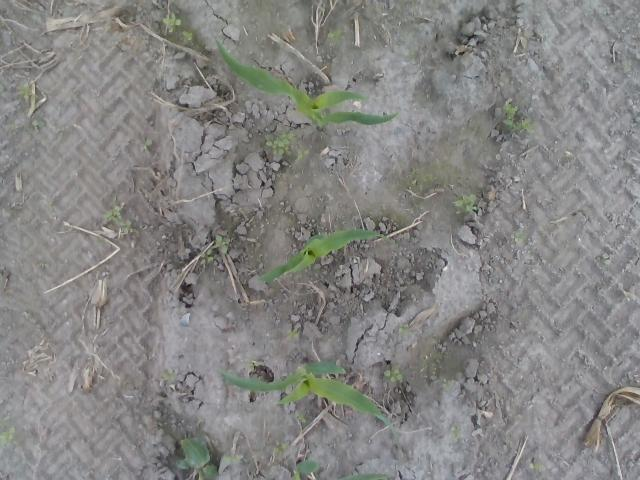Maize: (208, 33, 400, 130), (216, 360, 402, 444), (256, 228, 394, 284)
Weeds: (174, 437, 218, 480), (502, 104, 534, 136), (266, 132, 298, 156), (454, 194, 477, 214), (163, 10, 181, 34), (1, 428, 18, 450), (18, 81, 34, 104), (212, 236, 230, 256), (102, 206, 122, 224), (512, 230, 530, 246), (219, 454, 245, 464), (294, 408, 308, 426), (384, 370, 402, 383), (296, 149, 310, 163), (180, 31, 194, 45), (200, 249, 212, 265), (273, 442, 289, 454), (10, 122, 22, 137), (162, 371, 176, 383), (398, 322, 412, 334), (31, 120, 45, 132), (530, 463, 546, 473), (140, 139, 152, 152), (450, 426, 462, 438), (622, 60, 633, 73), (602, 252, 612, 266), (328, 30, 342, 38), (288, 330, 298, 340), (444, 380, 453, 391)
